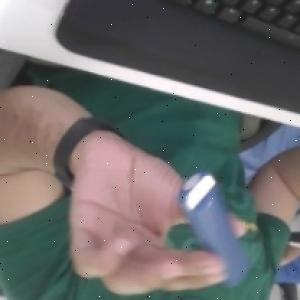Diamond-E-Ciggirate: (178, 167, 252, 291)
